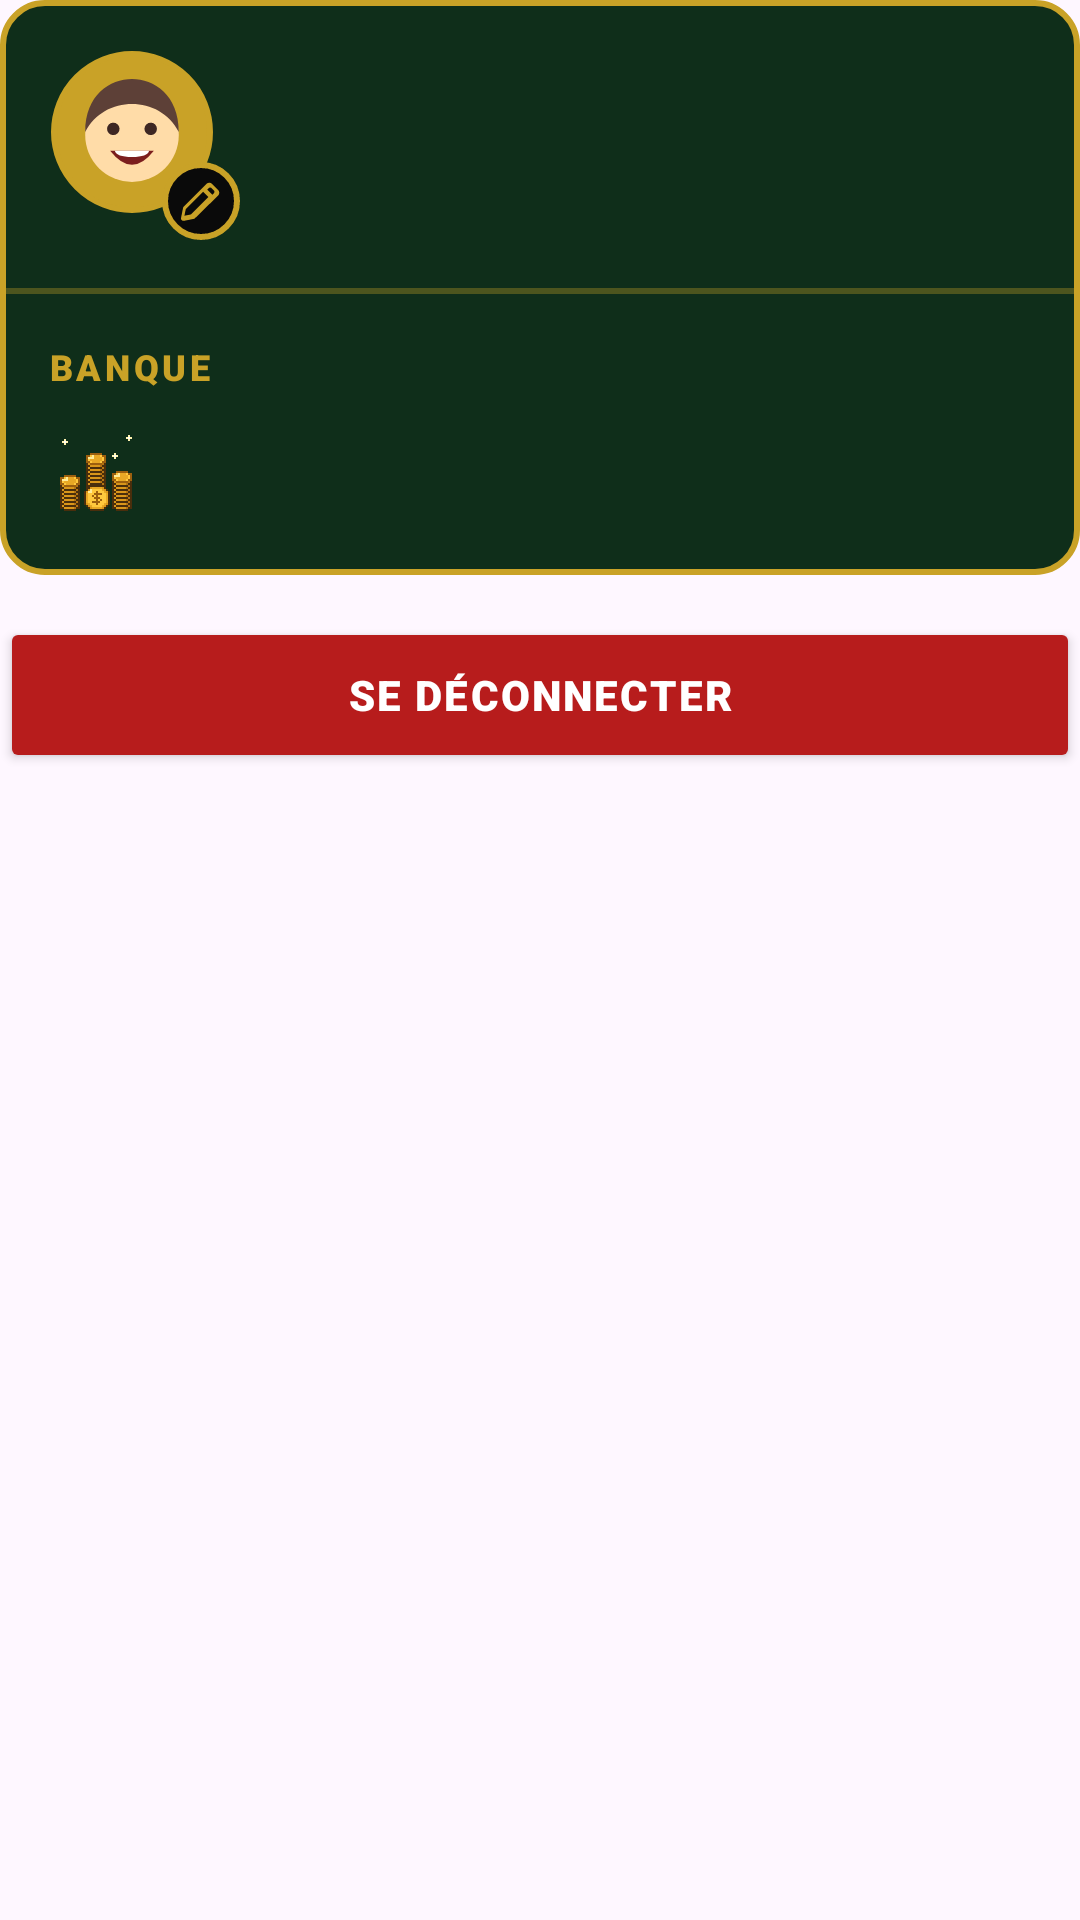

Screen size 1080px x 1920px. Icon name, then its box in pixels as rect(x1, y1, x2, y2):
Changer d'avatar: rect(162, 162, 240, 240)
pieces: rect(60, 435, 132, 511)
